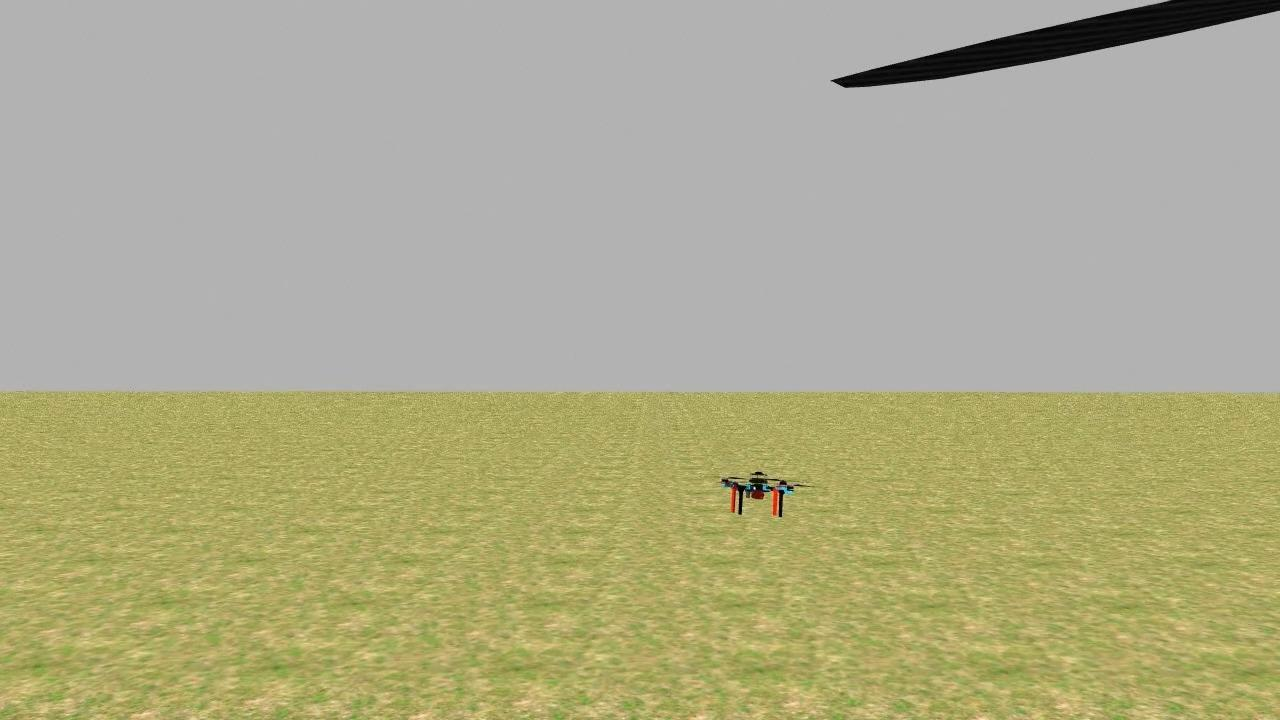UAV: (704, 449, 812, 523)
